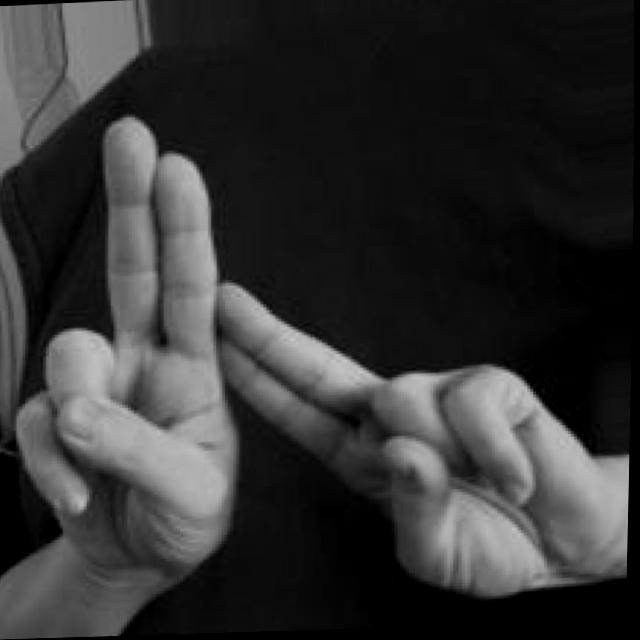K: (4, 86, 612, 620)
